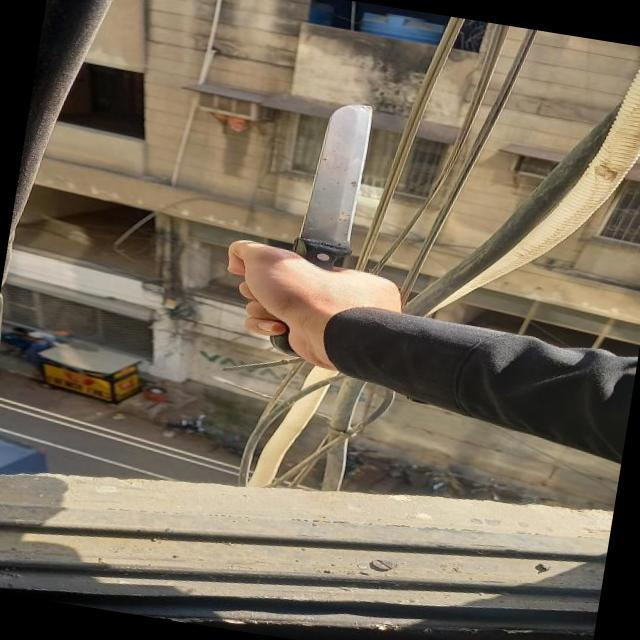Knife: (272, 92, 386, 369)
